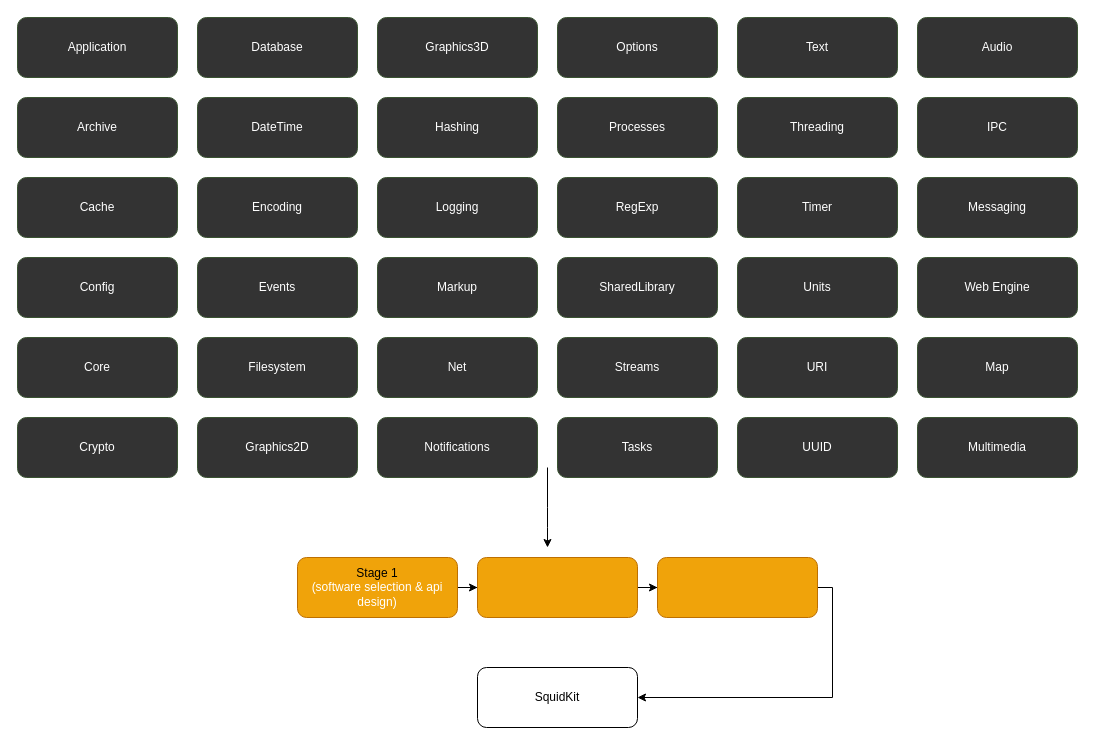
This 1095x745 diagram has some shape labels left out. The shapes that lost their labels are listed below. From the top down, each one's centre as x and y in pixels, then its label:
pixel 557 587: Stage 2 (type aliasing & derived classes)
pixel 737 587: Stage 3 (custom classes)
